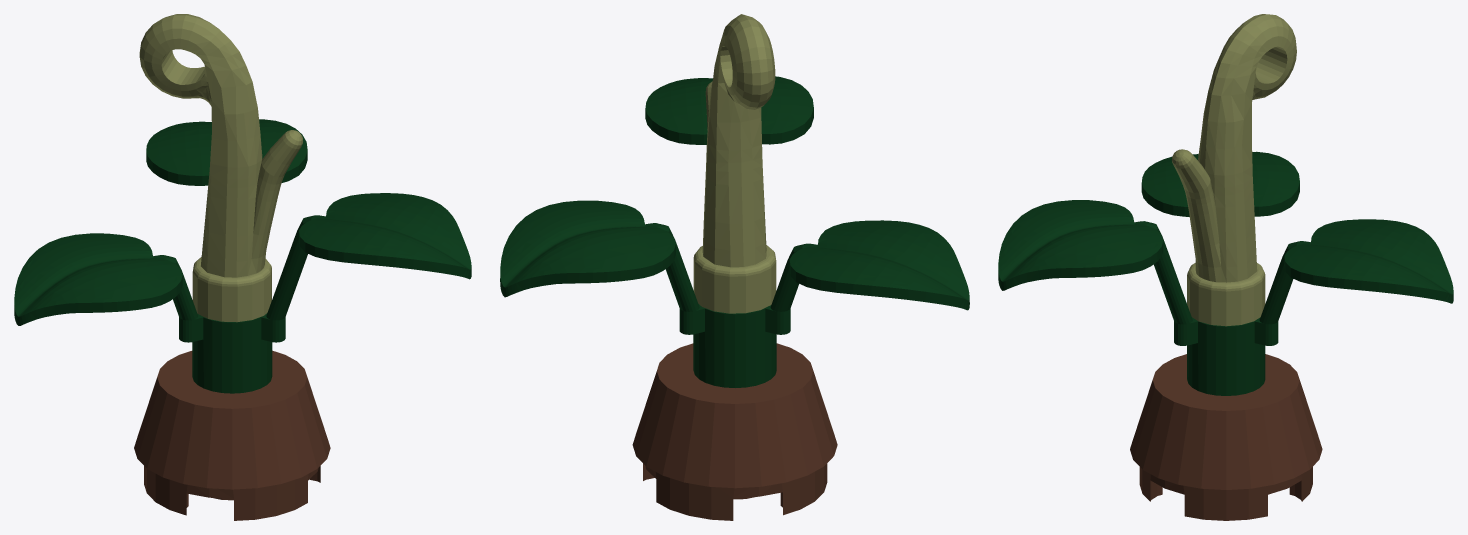
The model's file is plant.fbx.
3 renders of one model, left to right at view 1: azimuth 30°, elevation 25°; view 2: azimuth 150°, elevation 25°; view 3: azimuth 270°, elevation 25°, orthographic. The views are drawn at different scales.
Parts seen in each view (by area): view 1: Gras.003; view 2: Gras.003; view 3: Gras.003.
Boxes of the visible parts, x1,y1,x2,y2 form: Gras.003: (14, 14, 471, 520); Gras.003: (500, 14, 969, 520); Gras.003: (998, 14, 1453, 520).
Bounding box in the file's own units: 170 × 208 × 189.
